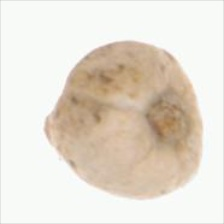L4: (43, 41, 204, 198)
